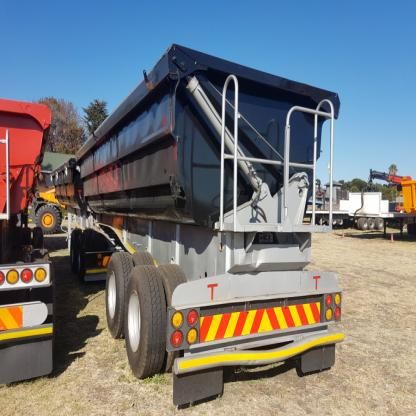dump_truck: (48, 40, 358, 386)
